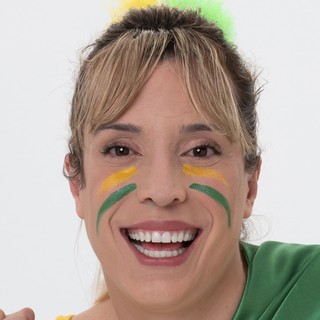eye: (179, 139, 225, 163), (98, 139, 141, 163)
